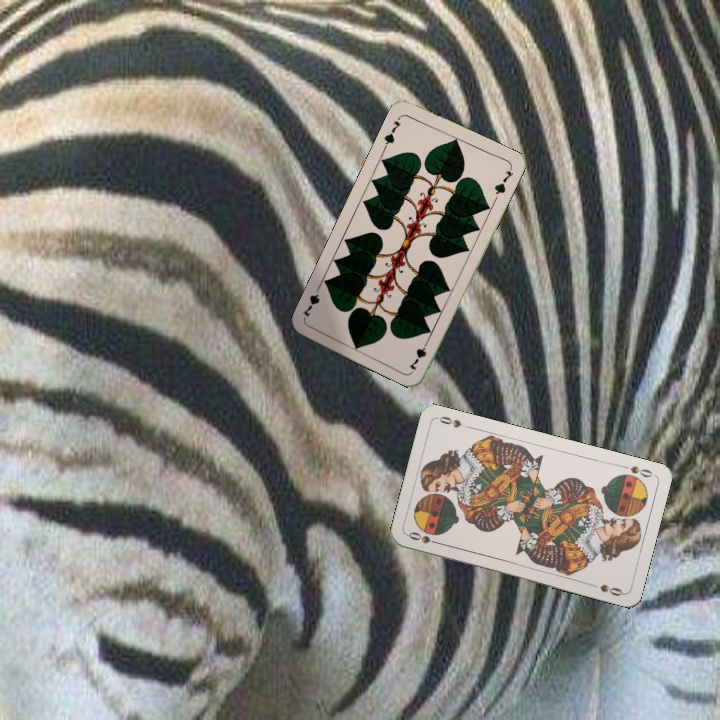G7: (405, 334, 432, 373), (380, 112, 404, 151)
SO: (404, 528, 444, 547), (617, 461, 657, 480)
